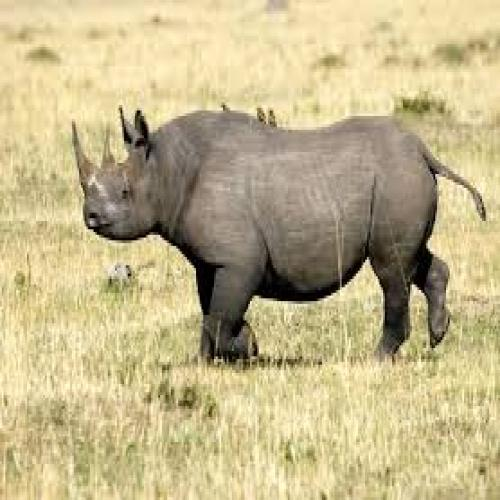rhino-endangered: (70, 106, 484, 362)
